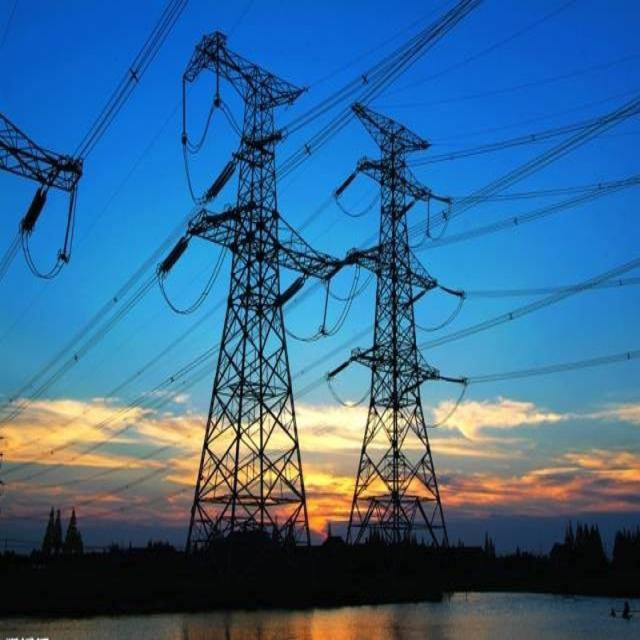non-critical vegetation: (187, 31, 307, 557), (351, 83, 452, 550)
